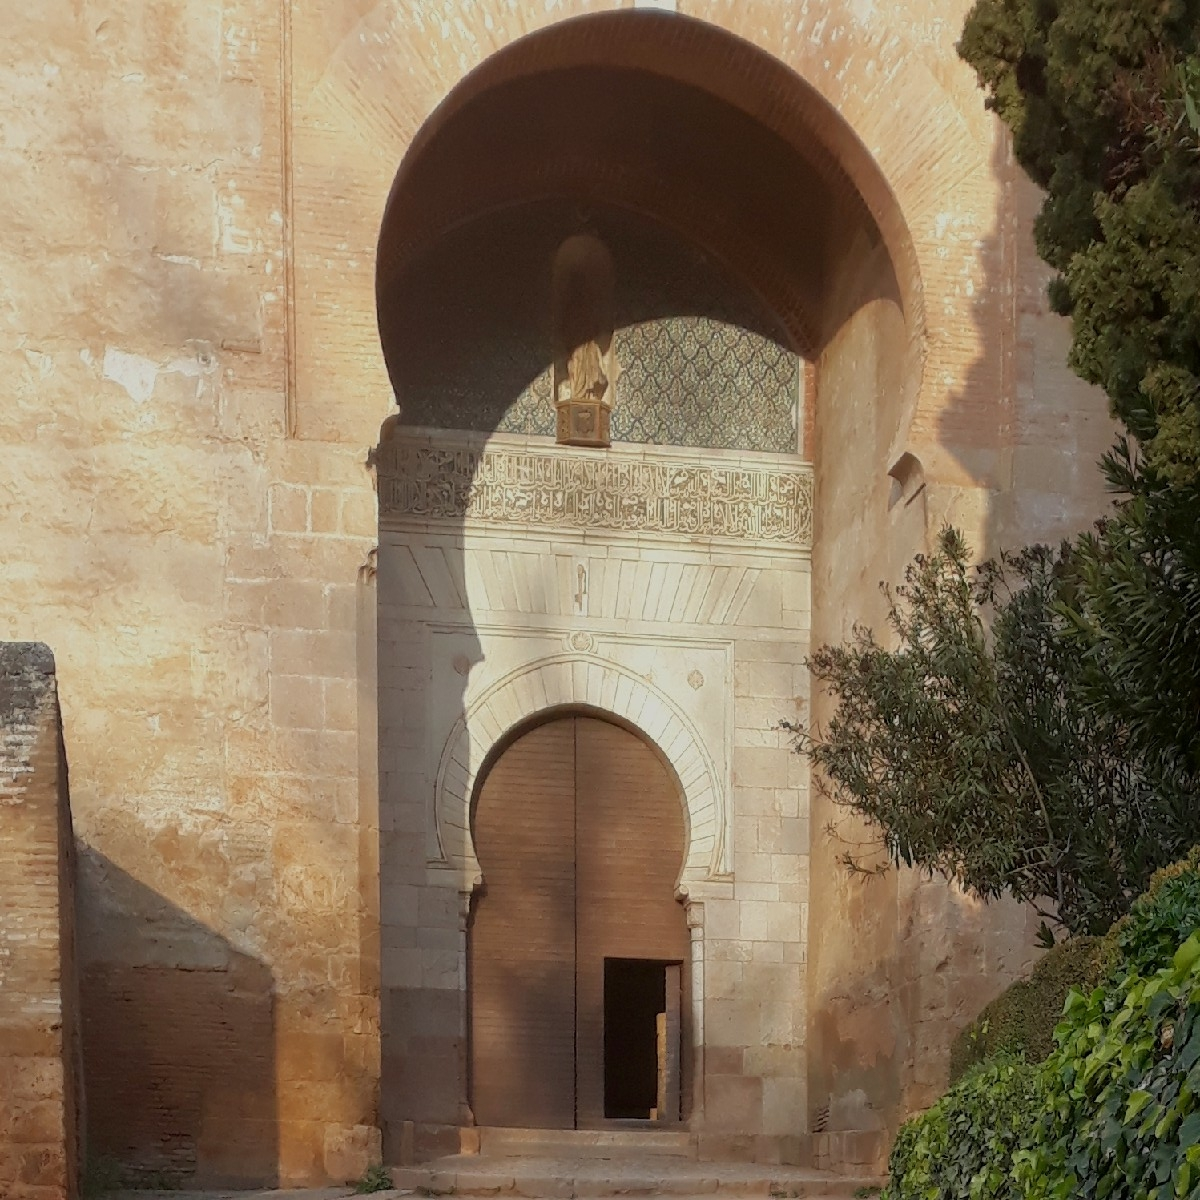arco-herradura: (348, 1, 951, 516), (454, 689, 709, 916)
dintel-adovelado: (404, 538, 768, 635)
